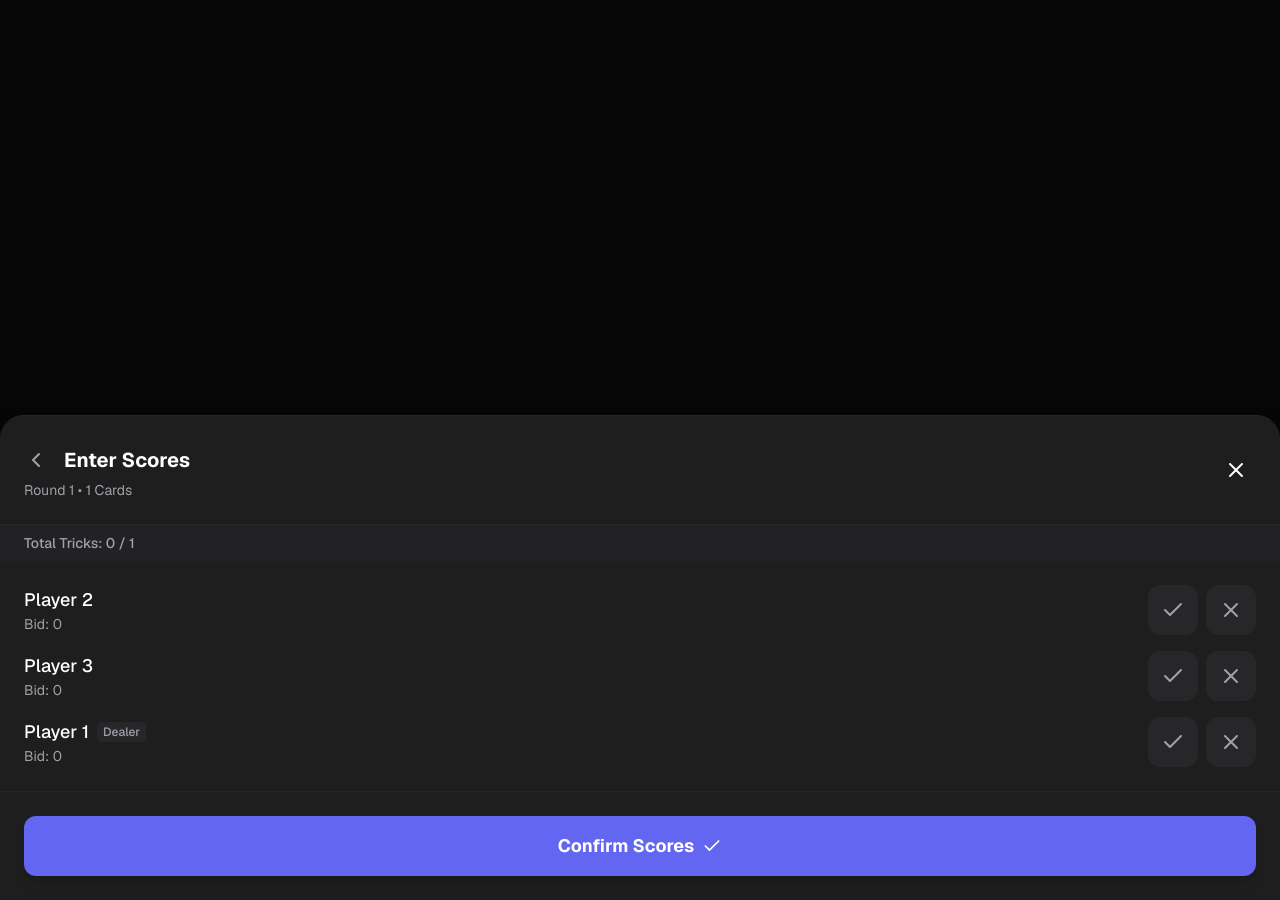
Test case: ScoreEntryOverlay - Trick Validation for Zero Bids › should reject all 3 players marked as missed when only 1 card dealt and all bid 0
The width and height of the screenshot is (1280, 900).
Expected: the heading "Enter Scores" is shown, [64,446,190,474]
Mark ALL players as missed (this should be invalid!)
Click the button titled "Missed bid" in the row of "Player 2": click(1231, 610) [1206,585,1256,635]
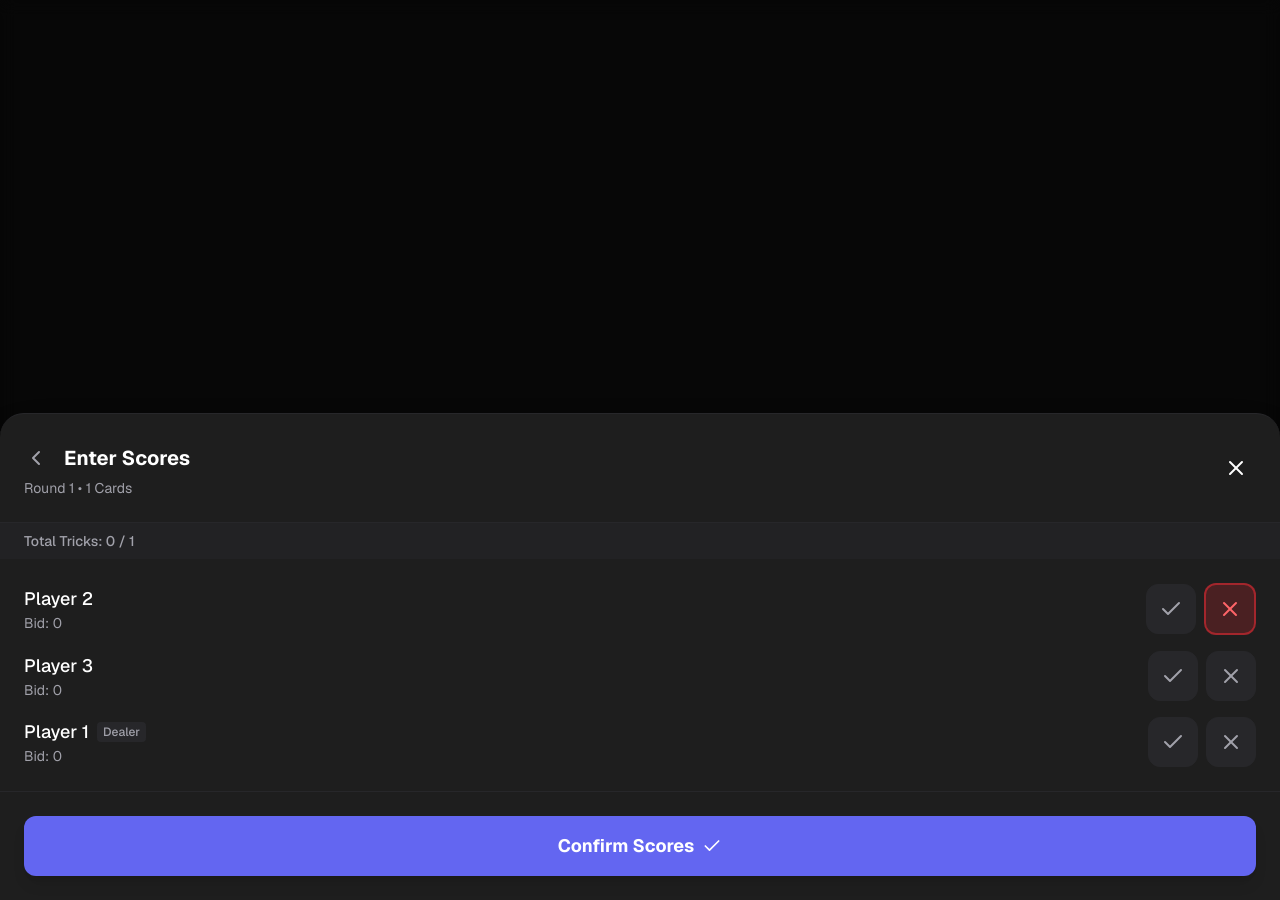
Click the button titled "Missed bid" in the row of "Player 3": click(1231, 676) [1206,651,1256,701]
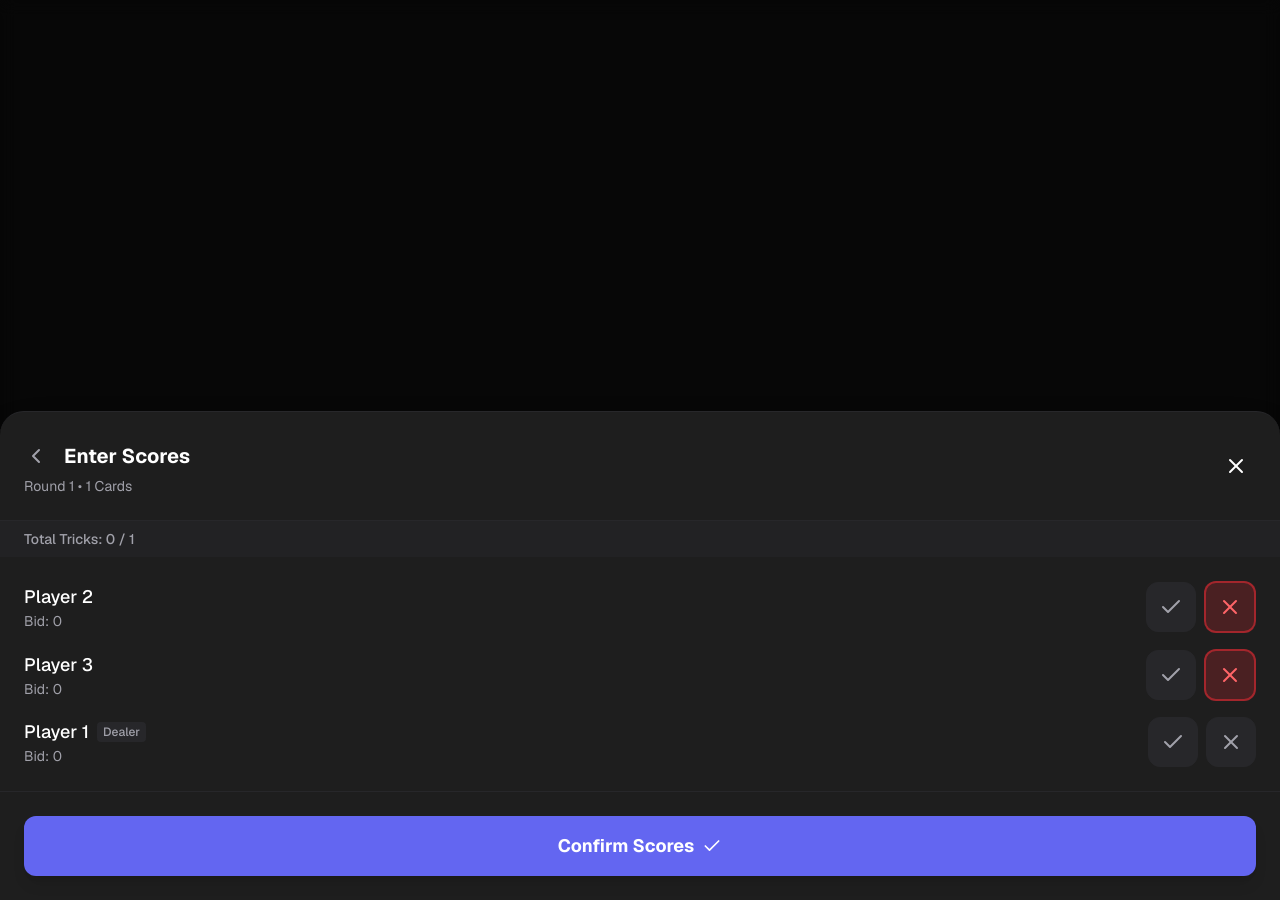
Click the button titled "Missed bid" in the row of "Dealer": click(1231, 742) [1206,717,1256,767]
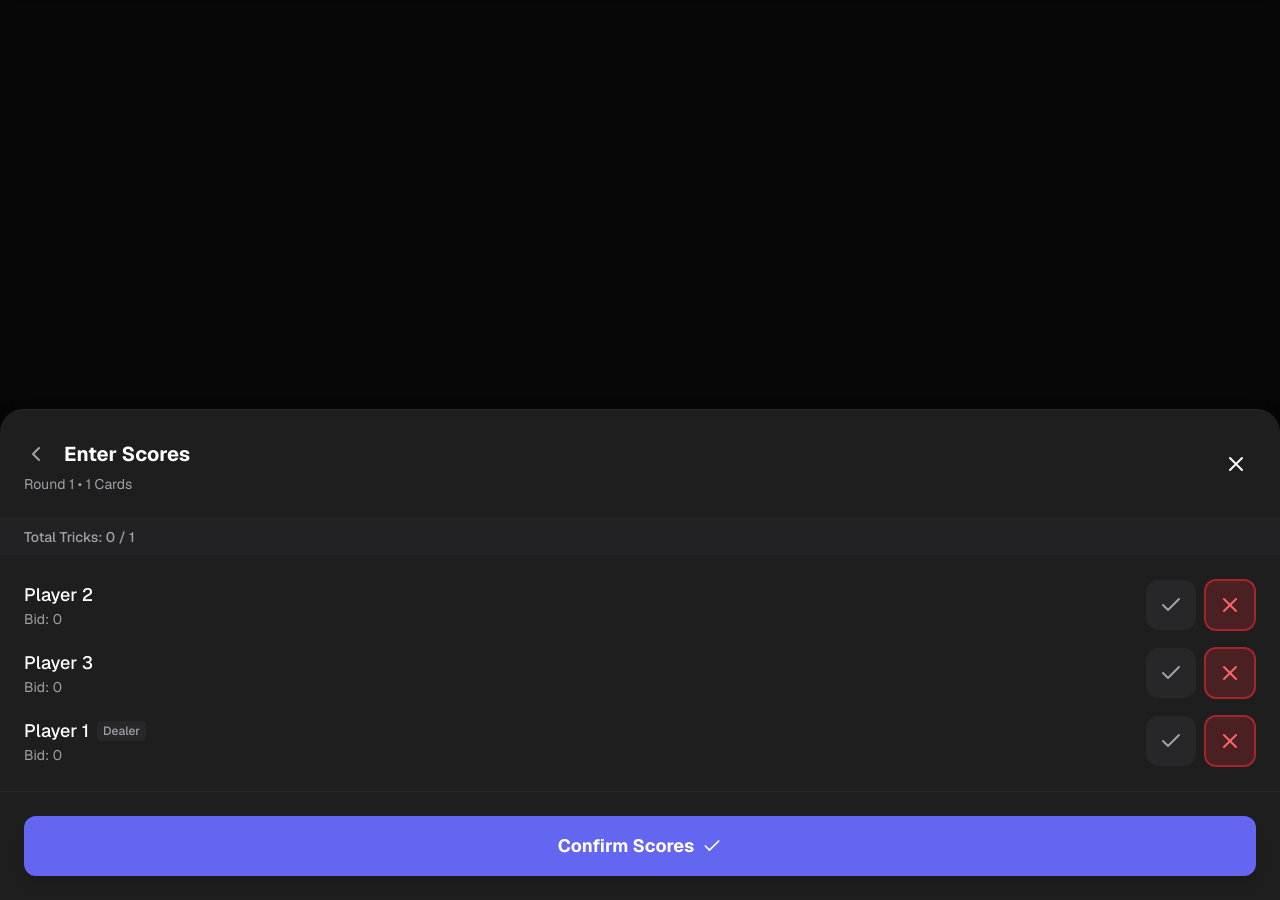
Try to submit
Click the button "Confirm Scores": click(640, 846) [24,816,1256,876]
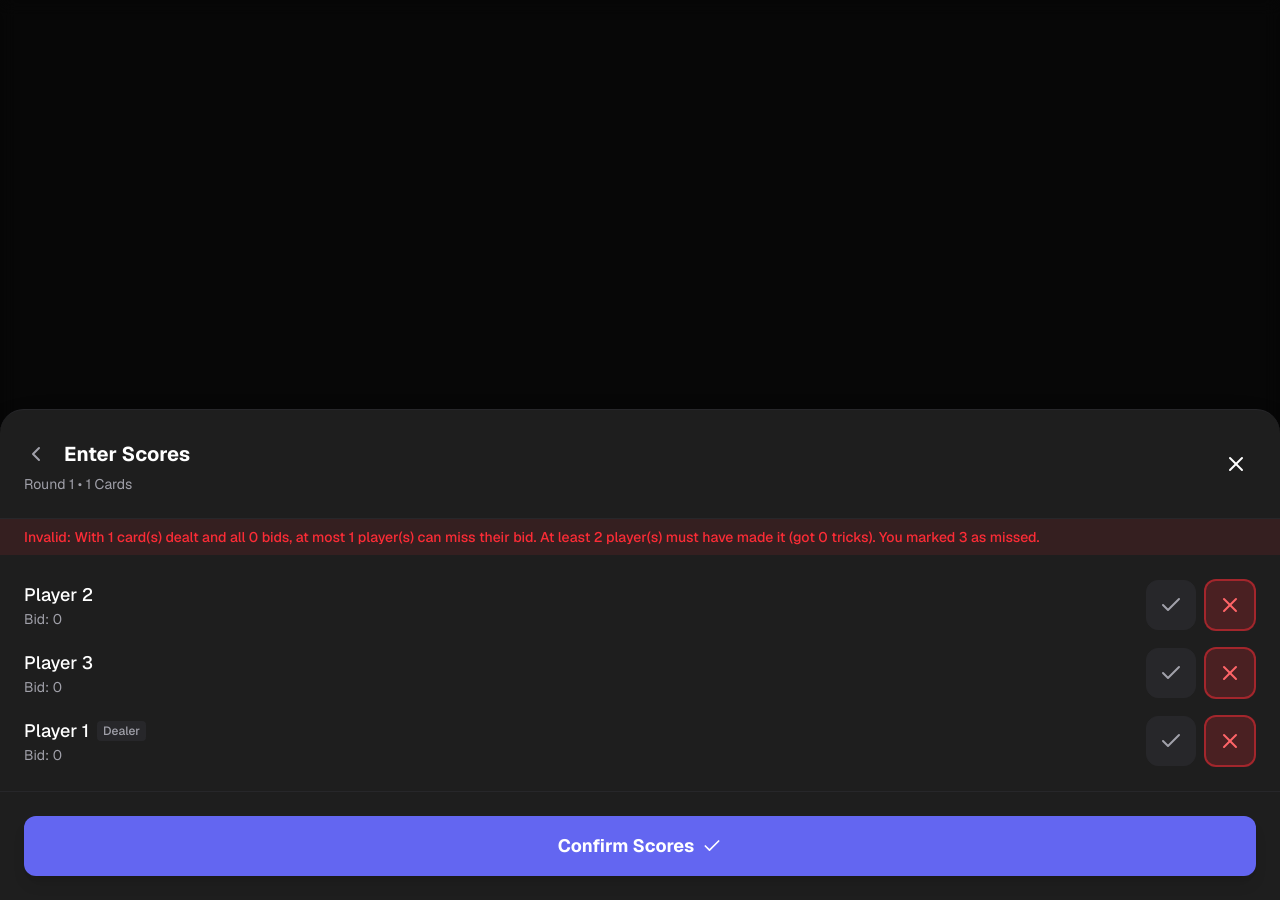
Now the text "at most 1 player(s) can miss" is shown, box [24,528,1040,546]
